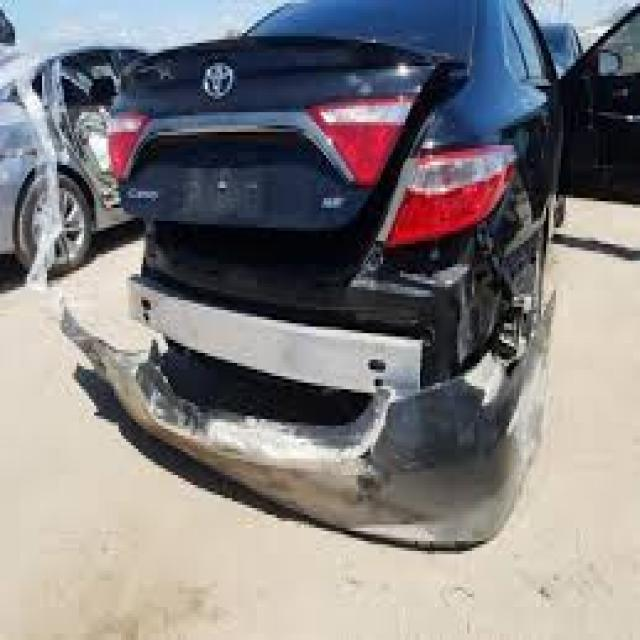damaged-trunk: (112, 31, 430, 287)
